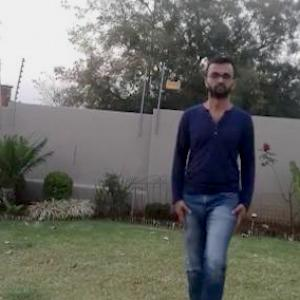follow: (172, 66, 249, 299)
